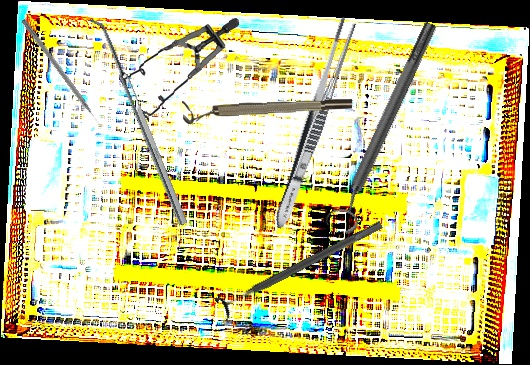Dressing Forceps: (269, 15, 359, 232)
Fixation Ring: (320, 16, 450, 238), (213, 211, 389, 324), (182, 95, 353, 125)
Pusher: (19, 18, 105, 131)
Spatula Surgical: (87, 14, 188, 229)
Speculum: (115, 17, 246, 124)
